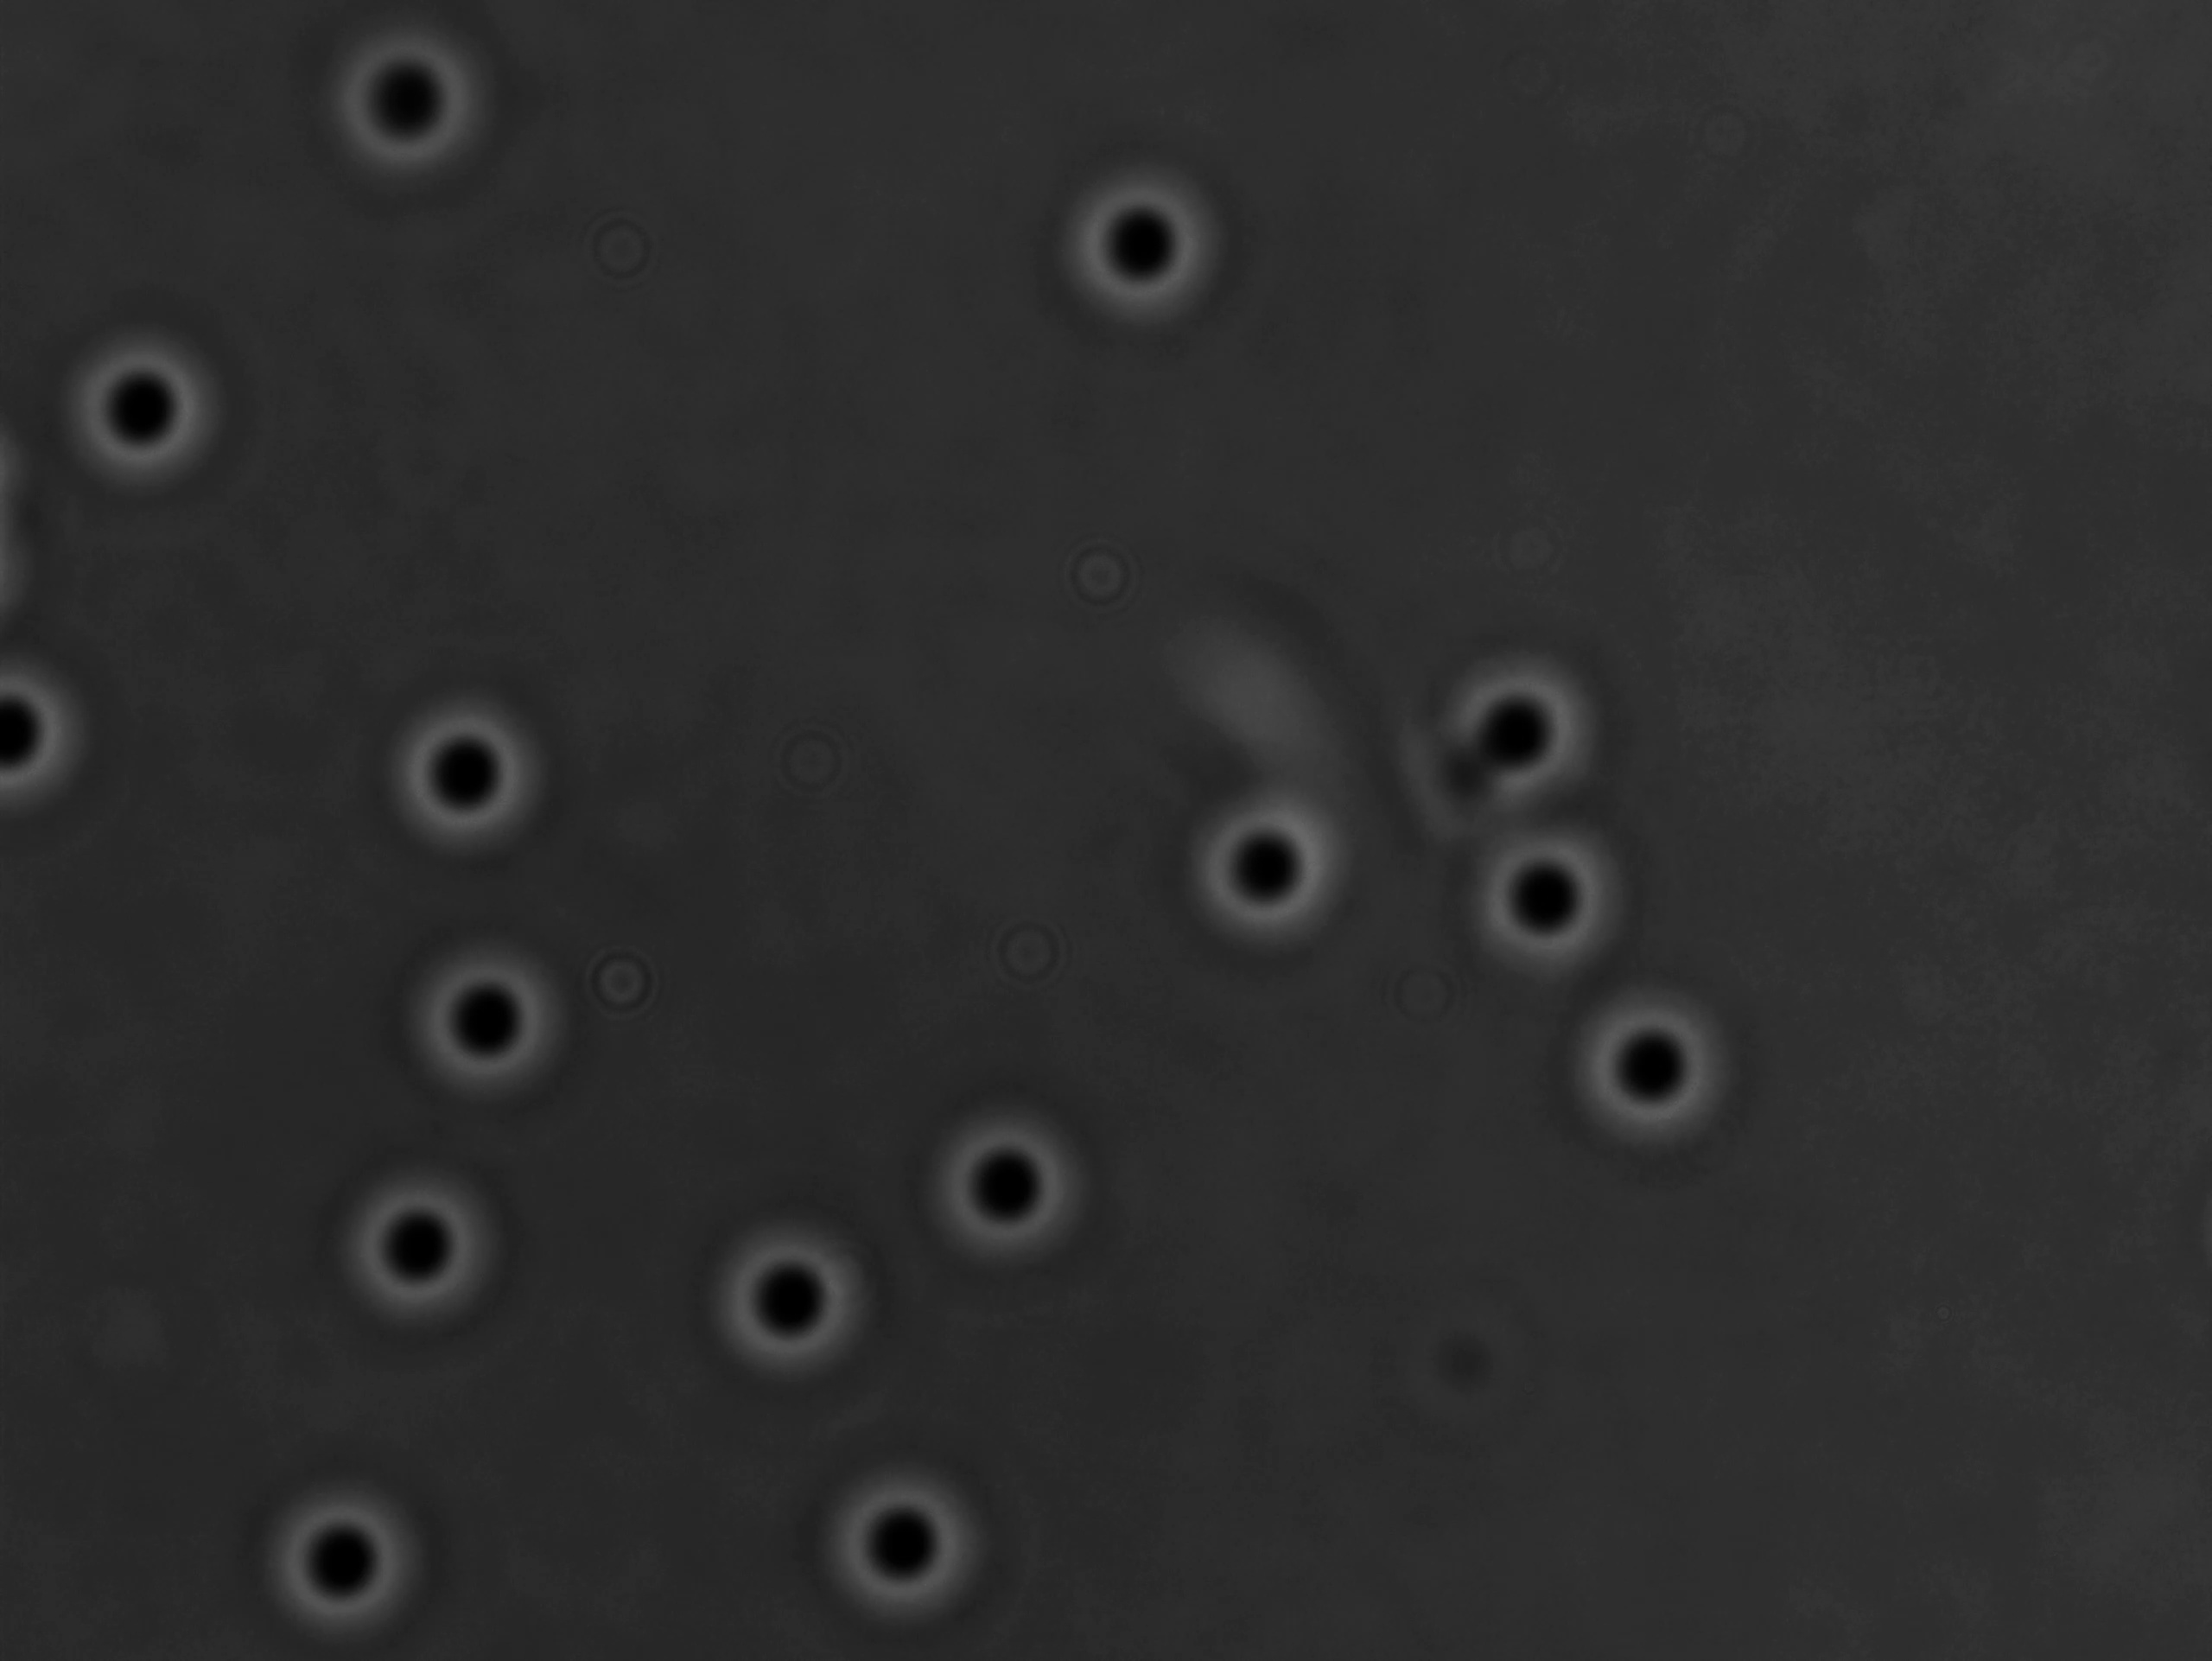depth:-80: (1160, 764, 1369, 968), (1556, 968, 1751, 1171), (366, 680, 574, 865), (918, 1090, 1111, 1286), (399, 928, 588, 1124), (1448, 815, 1647, 996), (1047, 154, 1239, 338), (696, 1209, 888, 1394), (818, 1455, 1015, 1628), (319, 21, 513, 195), (1432, 635, 1626, 806), (255, 1483, 440, 1659), (330, 1169, 513, 1343), (58, 323, 229, 492)
